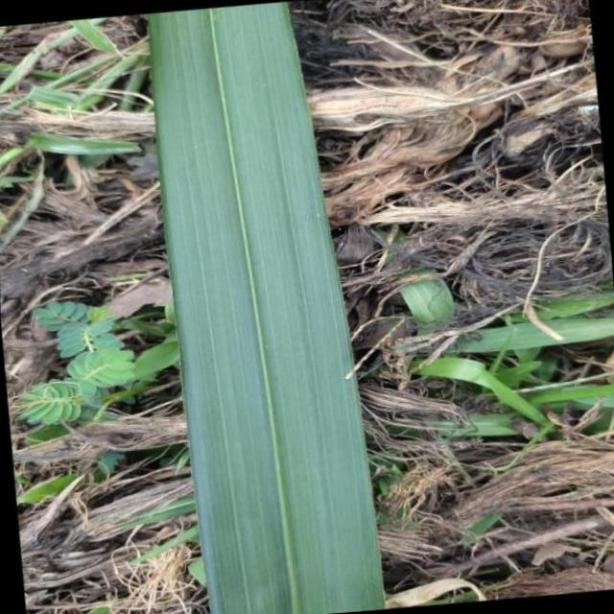Healthy: (147, 0, 385, 614)
